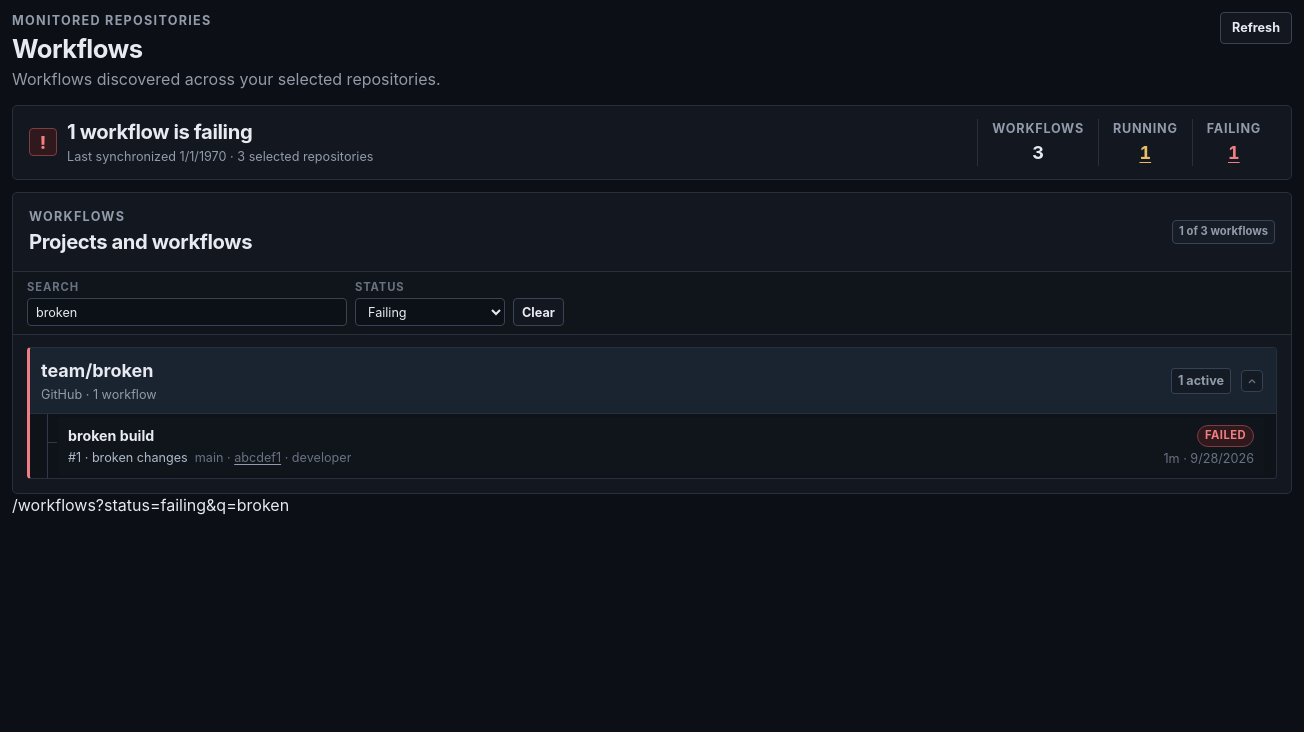
Test: WorkflowsPage › restores filters from the URL and shows an empty result for unmatched searches
Expected: the heading "team/broken" is shown, 41,358 -> 157,384
Expected: the dropdown labelled "Status" shows "Failing", 355,298 -> 505,326
Type "-missing" into the search field labelled "Search" at coordinates (187, 312), box 27,298 -> 347,326
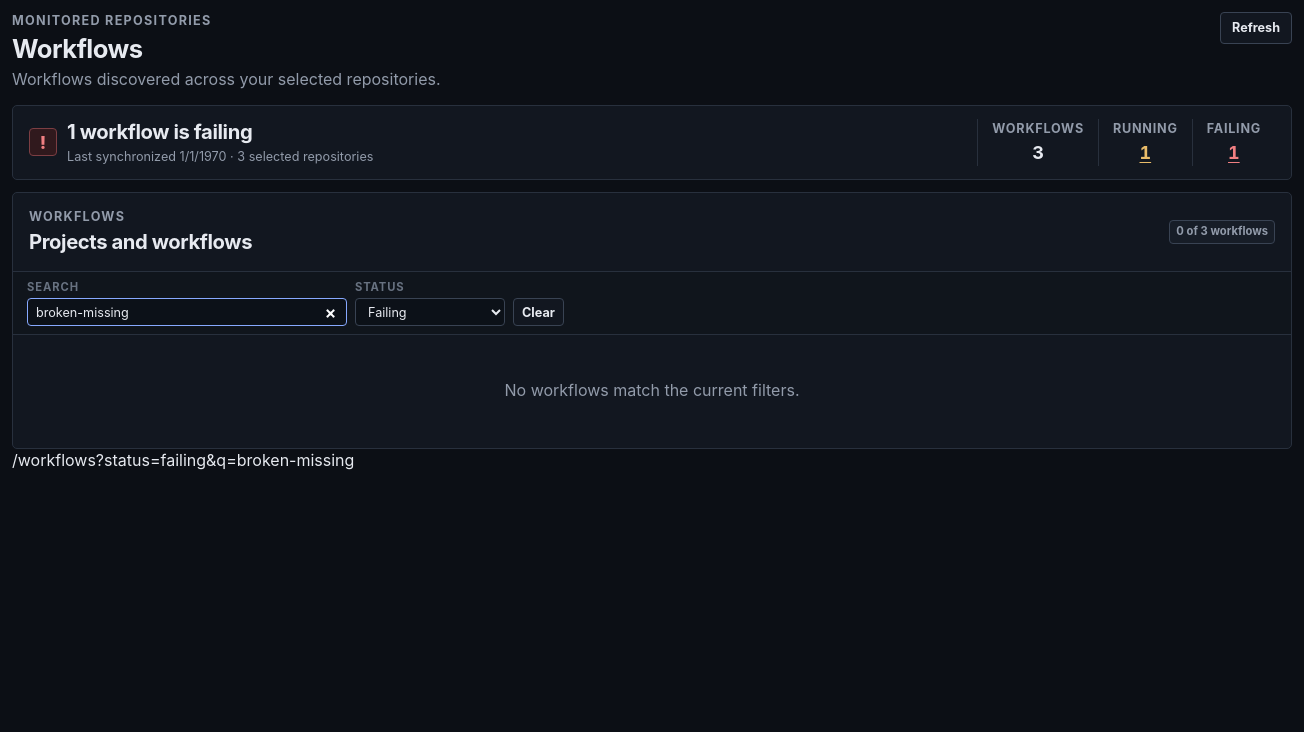
Expected: the text "No workflows match the current filters." is shown, 504,380 -> 800,400
Expected: the heading "team/broken" is gone
